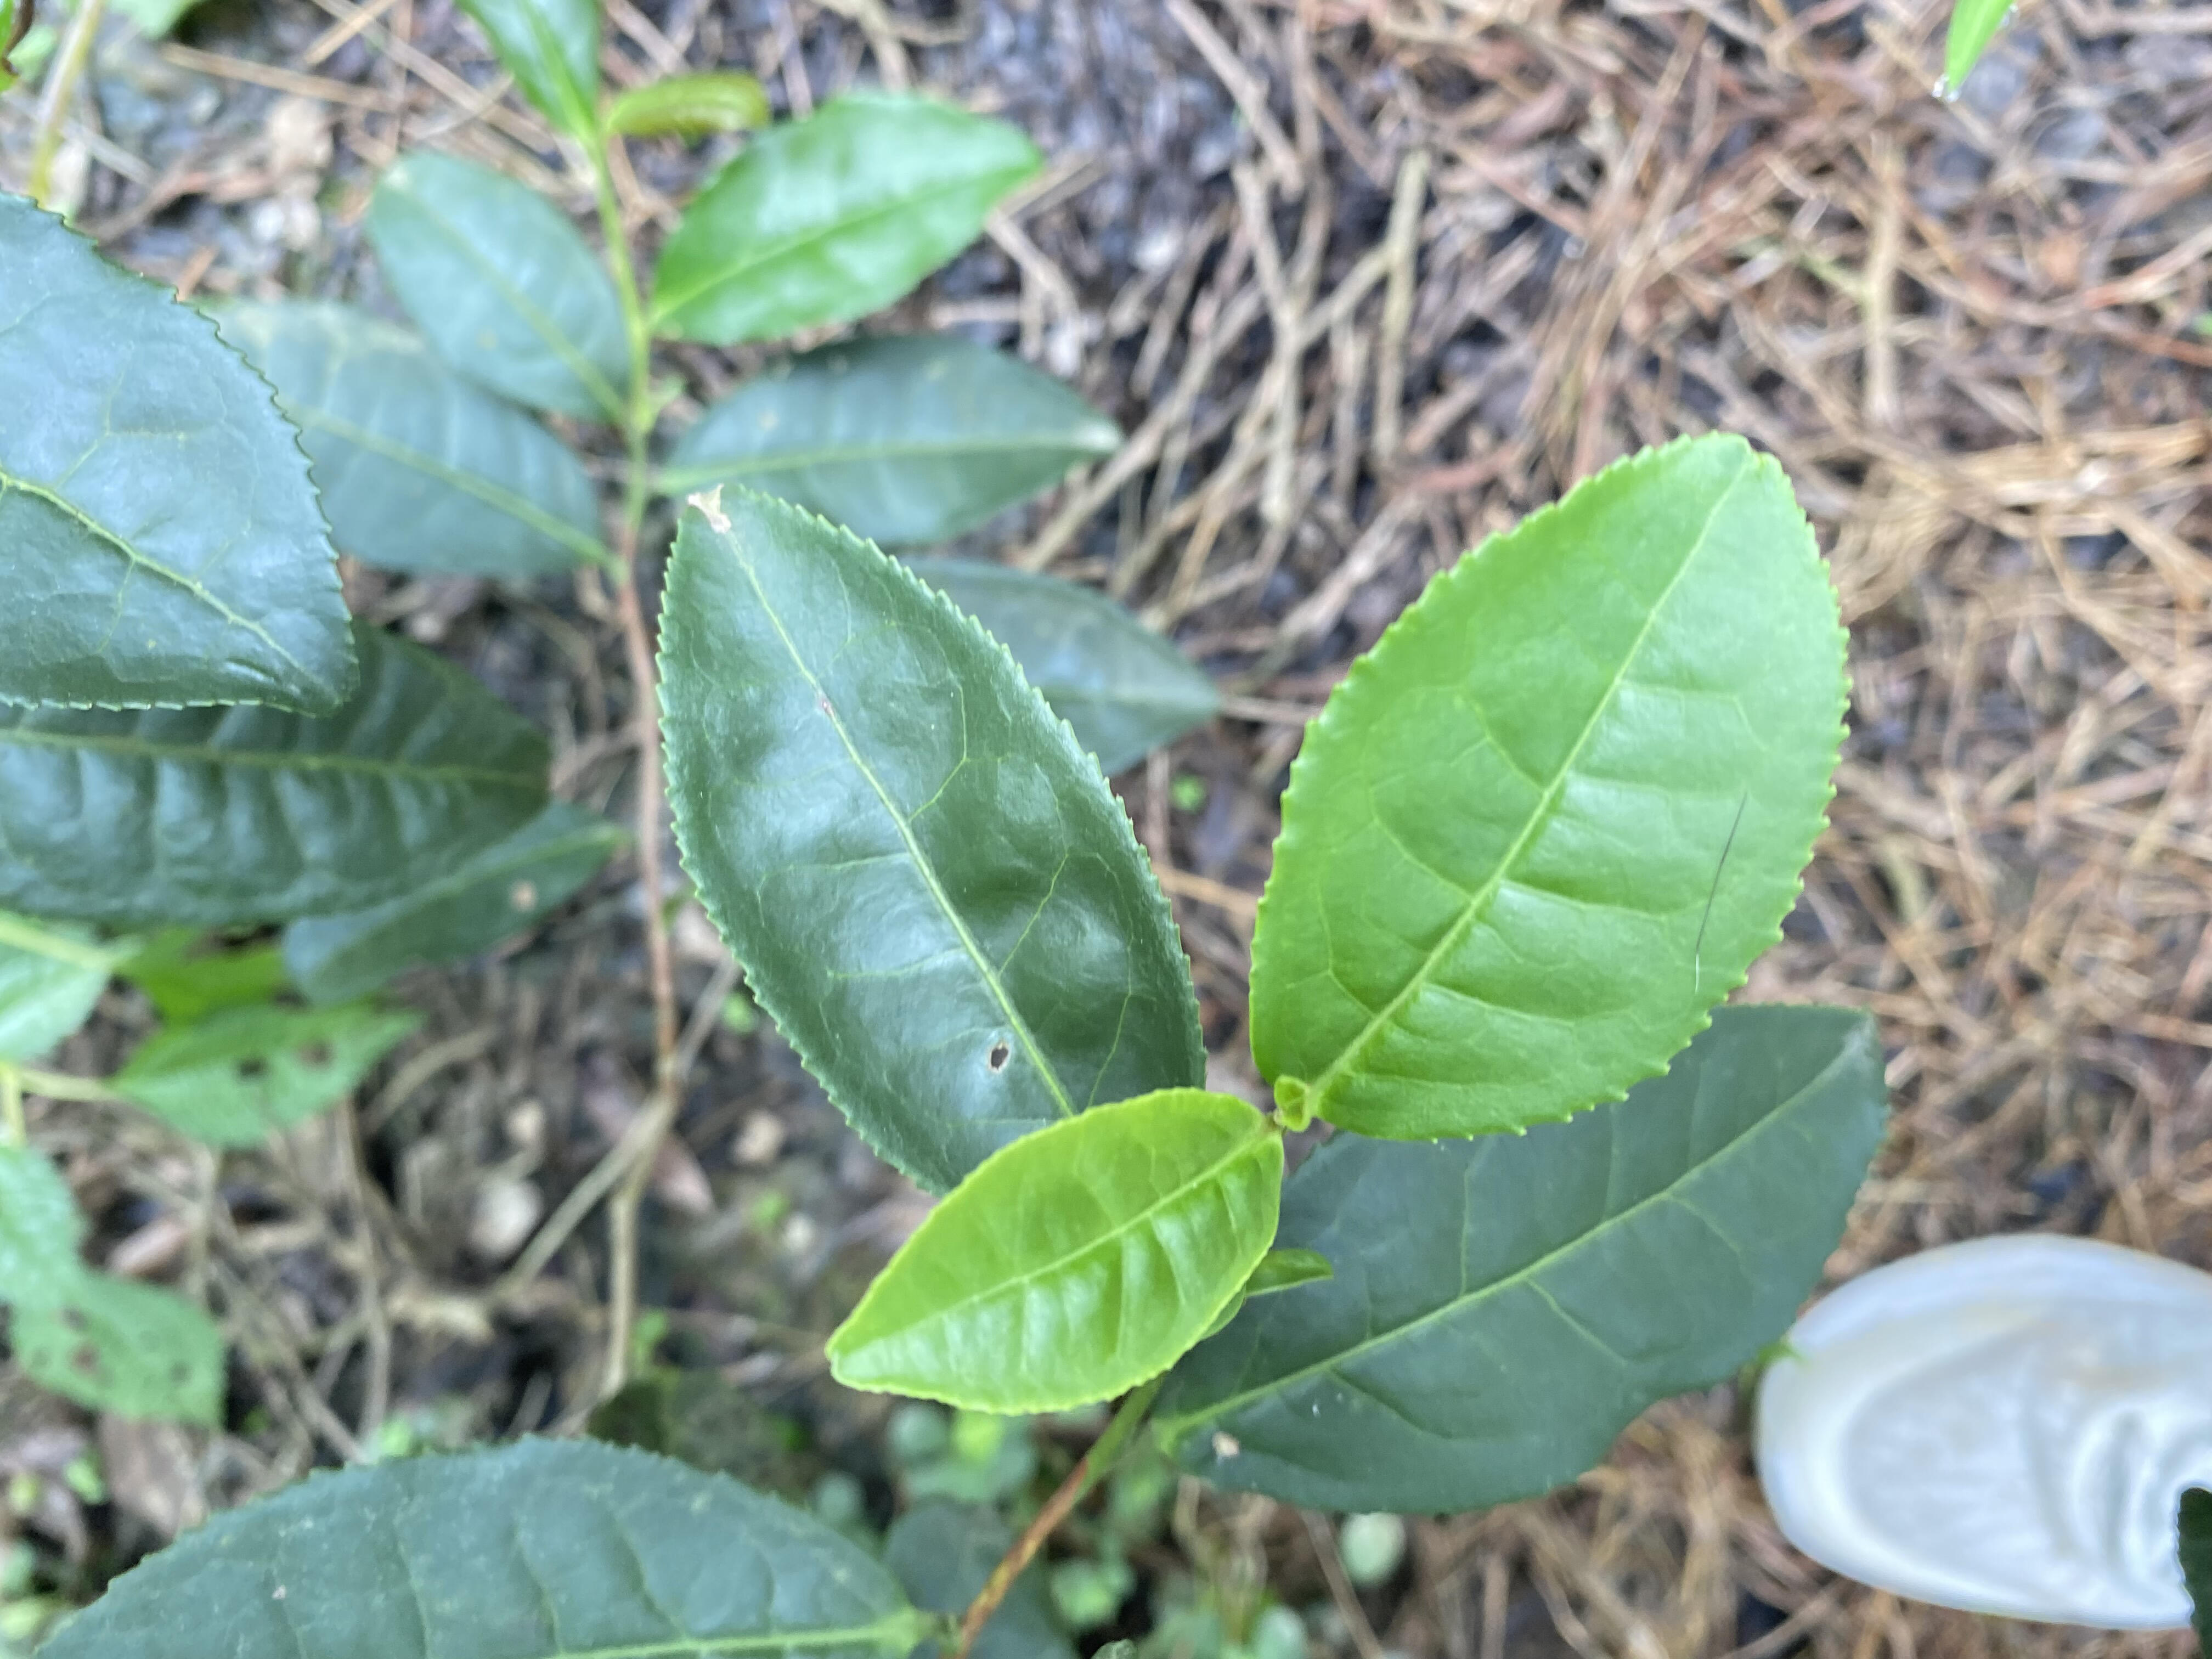healthy: (1247, 425, 1858, 1145), (0, 186, 362, 718), (824, 1086, 1284, 1415)
